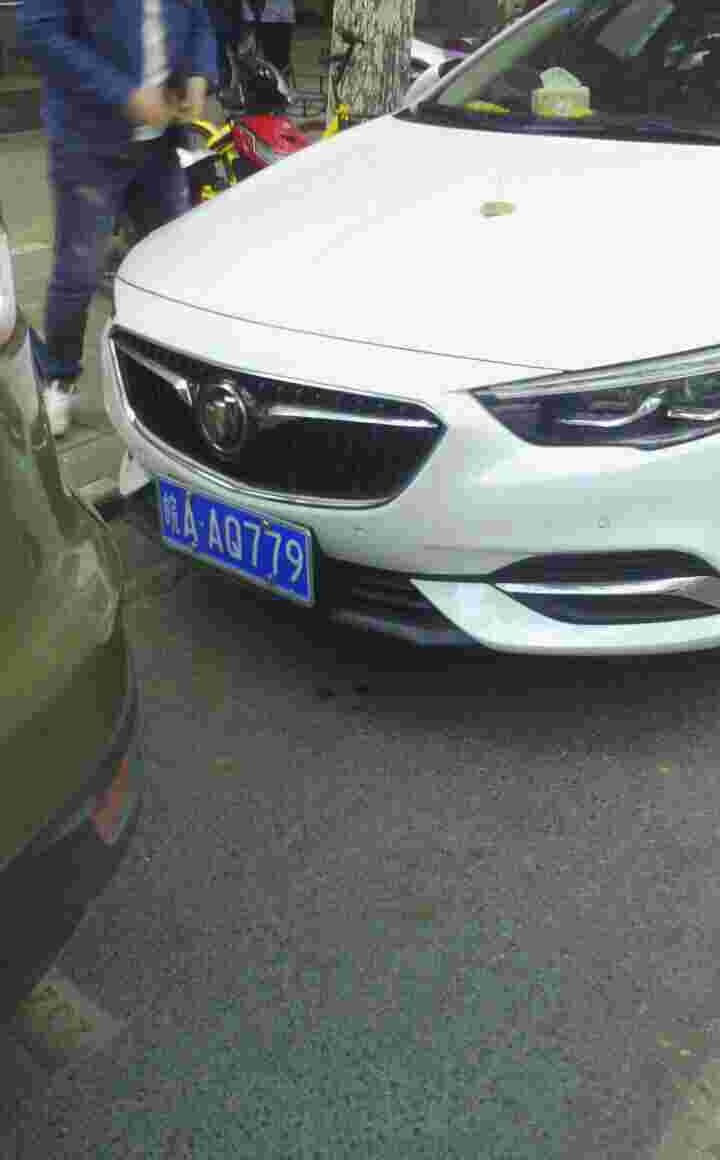plate: (153, 469, 315, 604)
